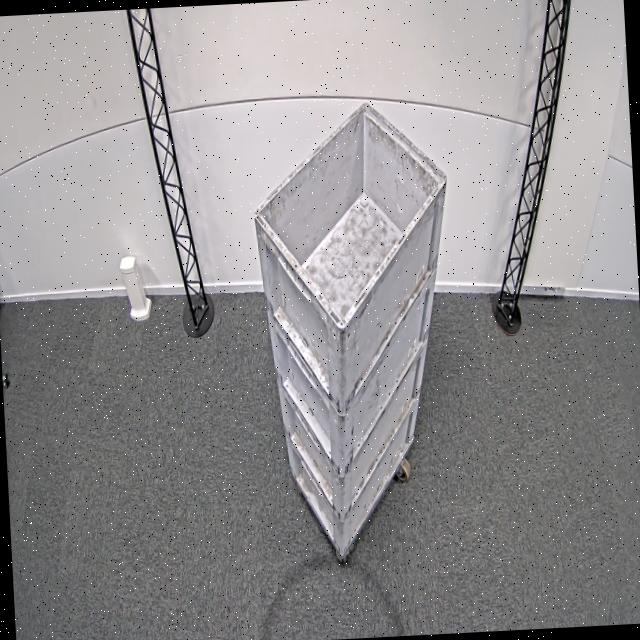Roll4G: (247, 96, 456, 336)
